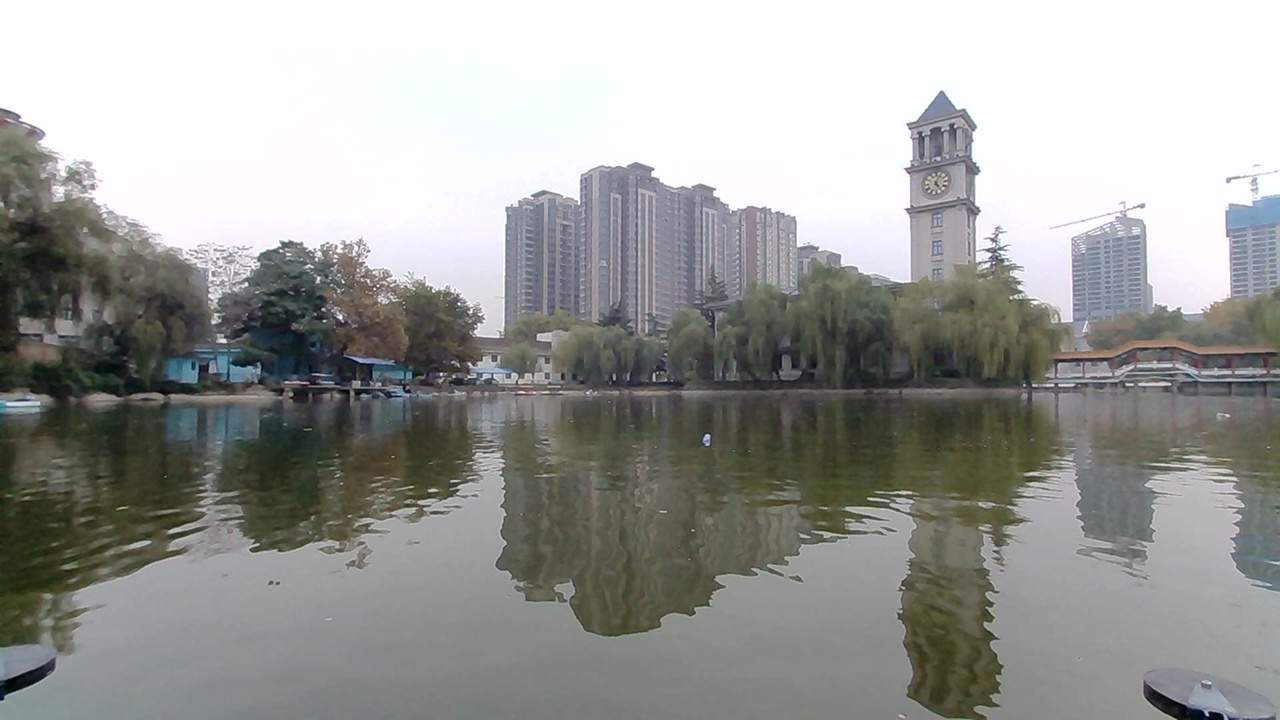bottle: (677, 421, 729, 453), (1211, 405, 1243, 424)
